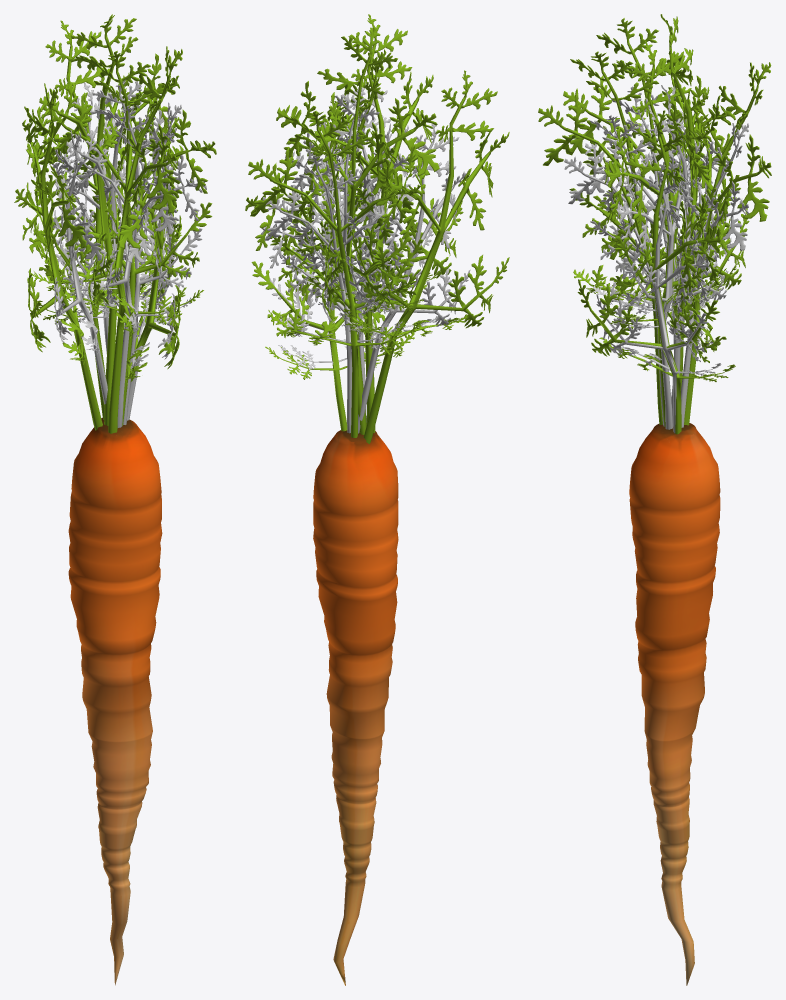
File: El Carrot2.fbx
3 views of the same model, side by side, from view 1: azimuth 30°, elevation 25°; view 2: azimuth 150°, elevation 25°; view 3: azimuth 270°, elevation 25° (orthographic). The views are drawn at different scales.
Visible parts, largest first — view 1: Cube.007, Cube.002, Cube.009; view 2: Cube.002, Cube.007, Cube.009; view 3: Cube.002, Cube.007, Cube.009.
Part boxes in pixels (box(x1,y1,x2,y2)): Cube.007: box(68, 418, 162, 985); Cube.002: box(14, 14, 216, 433); Cube.009: box(52, 76, 206, 427); Cube.002: box(245, 14, 509, 443); Cube.007: box(313, 430, 398, 985); Cube.009: box(261, 80, 470, 433); Cube.002: box(538, 14, 771, 434); Cube.007: box(629, 423, 720, 985); Cube.009: box(564, 85, 749, 433).
Bounding box in the file's own units: 514 × 2327 × 511.
